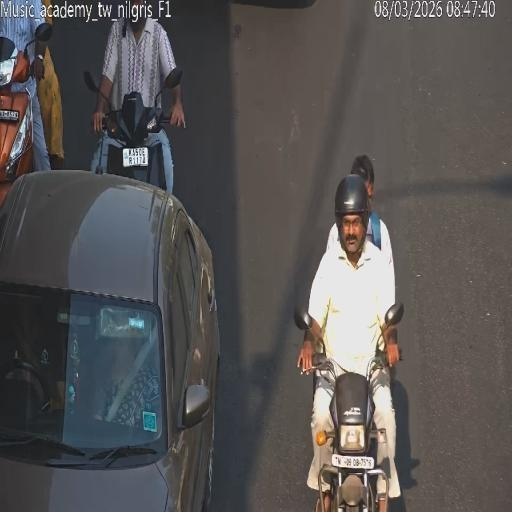person_with_seatbelt: (103, 328, 160, 418), (0, 316, 44, 379)
